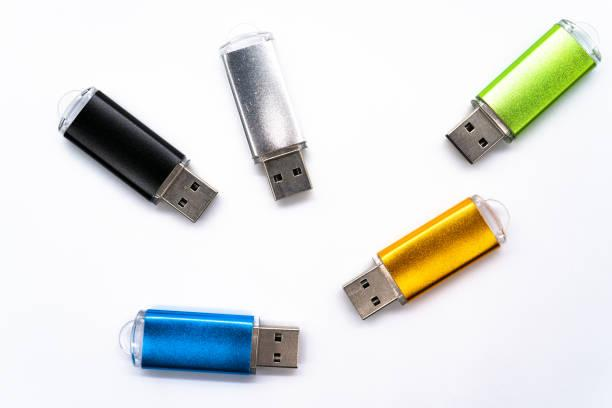USB Flash Drive: (446, 19, 597, 165), (58, 87, 219, 223), (343, 196, 504, 320), (130, 309, 300, 375)
